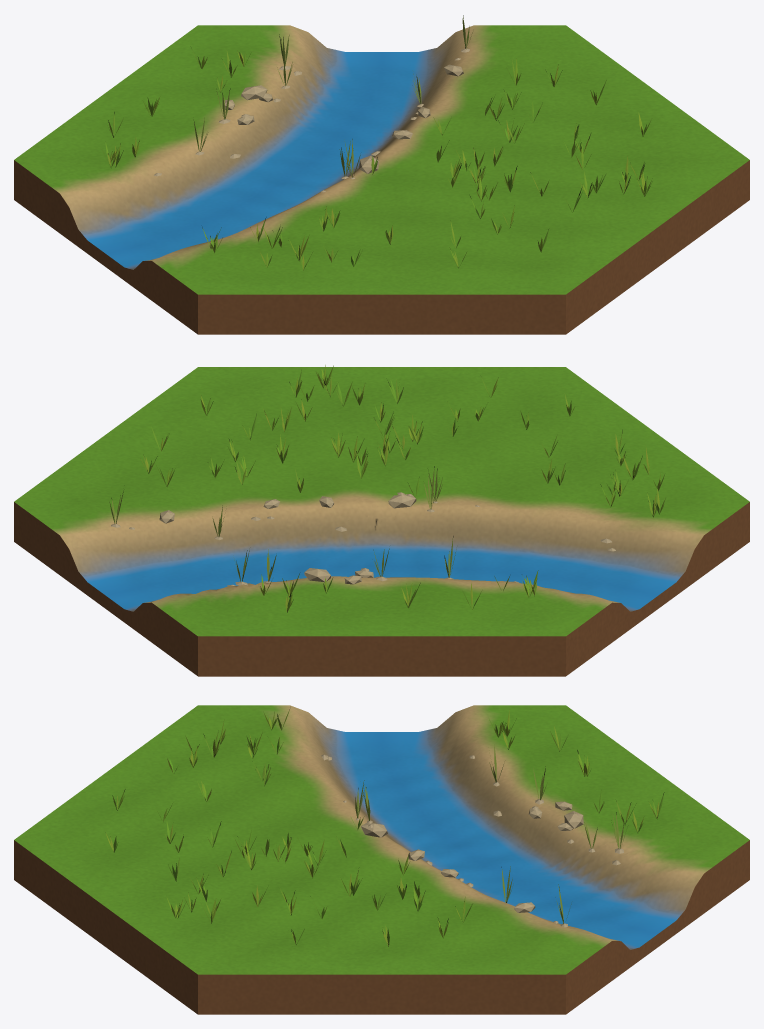
The model's file is SM_Agua_RioCurva_Detalle_LOD0.fbx.
The picture shows the model from 3 angles, top to bottom: view 1: azimuth 30°, elevation 25°; view 2: azimuth 150°, elevation 25°; view 3: azimuth 270°, elevation 25°; orthographic projection.
Parts seen in each view (by area): view 1: SM_Agua_RioCurva_Detalle_LOD0; view 2: SM_Agua_RioCurva_Detalle_LOD0; view 3: SM_Agua_RioCurva_Detalle_LOD0.
Boxes of the visible parts, bbox=[...] form: SM_Agua_RioCurva_Detalle_LOD0: bbox=[14, 15, 749, 334]; SM_Agua_RioCurva_Detalle_LOD0: bbox=[14, 365, 749, 676]; SM_Agua_RioCurva_Detalle_LOD0: bbox=[14, 705, 749, 1014].
Size of the model in its own units: 1.73 by 0.2394 by 2.
Materials: 1 (1 with a texture image).
